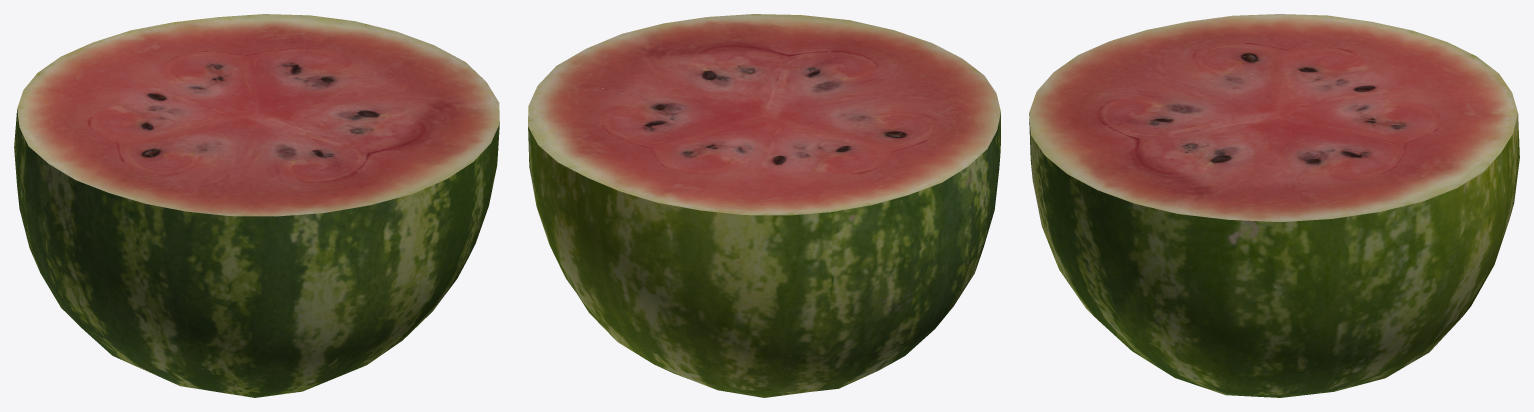
Rendered from Watermelon_Hemisphere.fbx.
The picture shows the model from 3 angles, left to right: view 1: azimuth 30°, elevation 25°; view 2: azimuth 150°, elevation 25°; view 3: azimuth 270°, elevation 25°; orthographic projection. The views are drawn at different scales.
Visible parts, largest first — view 1: Watermelon_Hemisphere; view 2: Watermelon_Hemisphere; view 3: Watermelon_Hemisphere.
Boxes of the visible parts, left/top/right/bottom form: Watermelon_Hemisphere: left=14, top=14, right=499, bottom=397; Watermelon_Hemisphere: left=528, top=14, right=1000, bottom=397; Watermelon_Hemisphere: left=1029, top=14, right=1519, bottom=397.
Bounding box in the file's own units: 2056 × 1162 × 2033.
